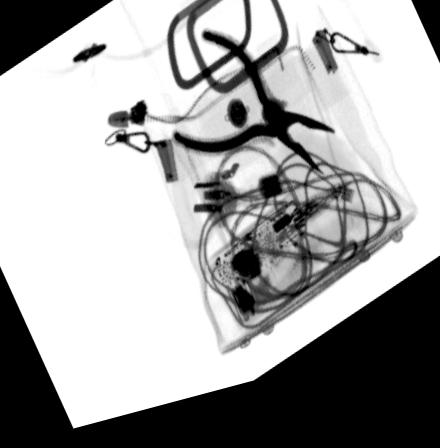Pliers: (169, 38, 334, 193)
